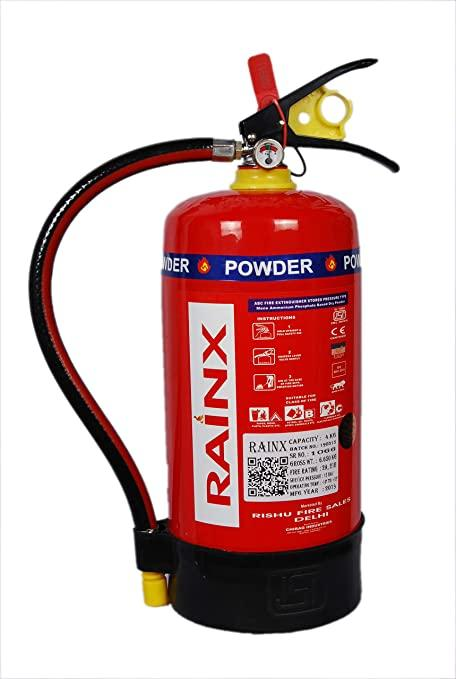Fire Extinguisher: (14, 26, 406, 636)
